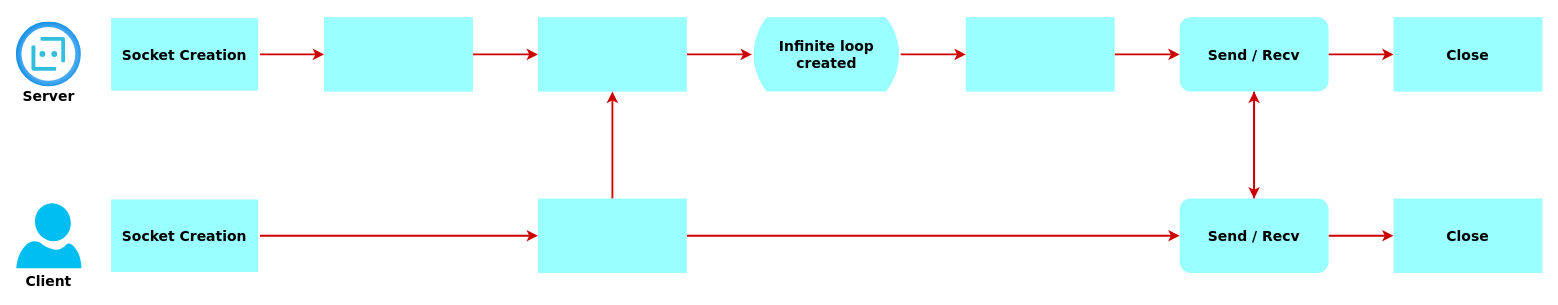
Some shapes in this 1558 by 305 pixel diagram are drawn without their labels. The shapes that lost their labels are listed below. From the top down, each one's centre as x and y in pixels, then its label:
(x=398, y=54): Bind socket to local IP address and specifc port
(x=612, y=54): Listen, wait for client and keep request in queue
(x=1039, y=54): Accept every client in queue
(x=612, y=235): Connect to server on specific IP address and port
